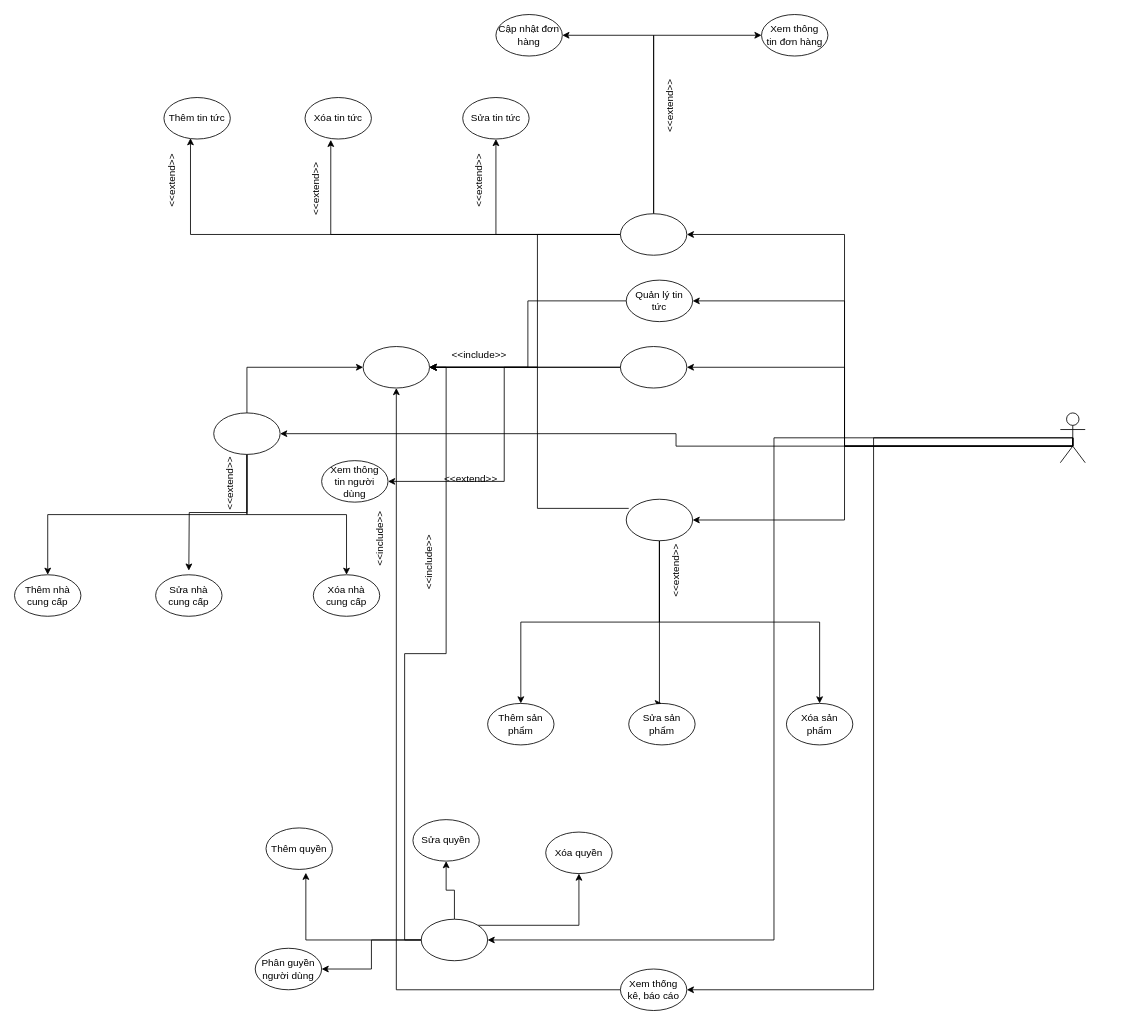
Image size: 1134x1025. Some labels were removed from this diagram. The centre of each missing label's shape, as x and y in pixels:
"Phân quyền" belongs at (x=454, y=939).
"Quàn lý đơn hàng" belongs at (x=653, y=234).
"Quản lý người dùng" belongs at (x=653, y=367).
"Quản lý nhà cung cấp" belongs at (x=246, y=433).
"Quản lý sản phẩm" belongs at (x=659, y=519).
"Quản trị viên cao cấp" belongs at (x=1072, y=437).
"Đăng nhập" belongs at (x=396, y=367).
